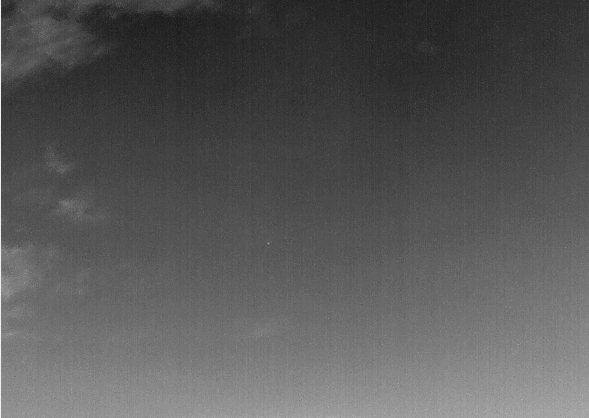dim target: (266, 241, 271, 246)
